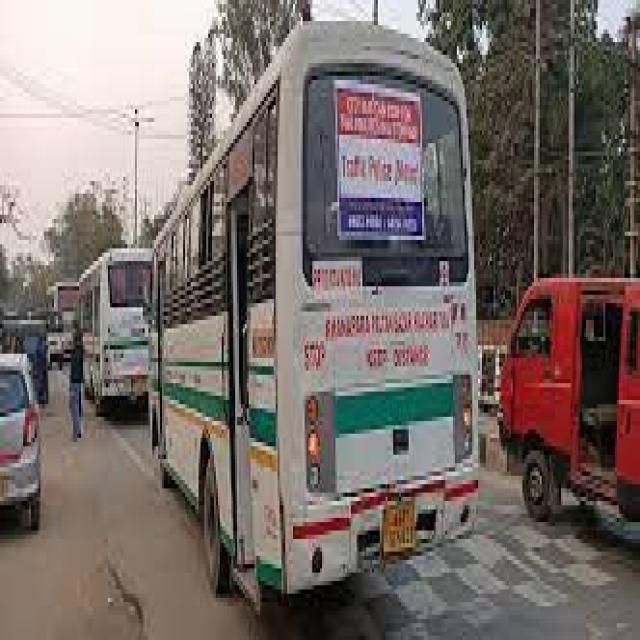Autorickshaw: (1, 316, 46, 406)
Bus: (140, 33, 487, 613), (71, 195, 155, 450), (50, 266, 80, 342)
Car: (0, 350, 39, 540)
tempo: (500, 273, 640, 545), (32, 302, 64, 362)
